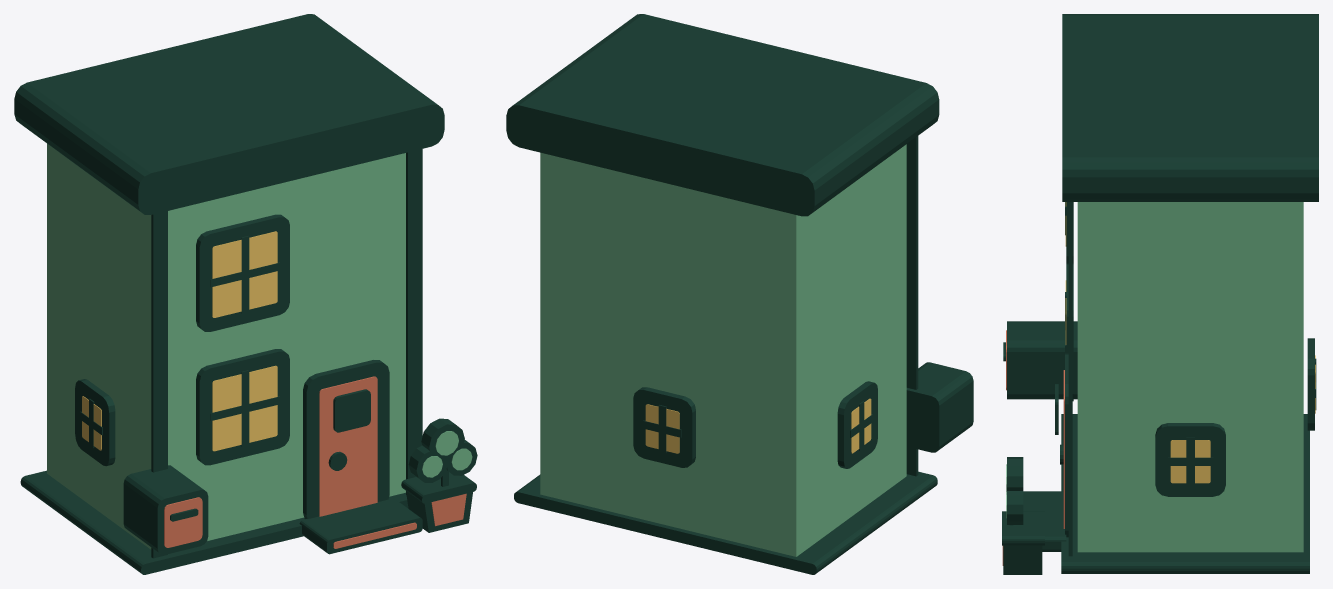
The picture shows the model from 3 angles, left to right: view 1: azimuth 30°, elevation 25°; view 2: azimuth 150°, elevation 25°; view 3: azimuth 270°, elevation 25°; orthographic projection. The views are drawn at different scales.
Parts seen in each view (by area): view 1: Rent Free house; view 2: Rent Free house; view 3: Rent Free house.
Boxes of the visible parts, <box> form: Rent Free house: <box>14,14,477,574</box>; Rent Free house: <box>506,14,973,574</box>; Rent Free house: <box>1002,14,1318,574</box>.
Bounding box in the file's own units: 0.8686 × 1.04 × 0.72.
